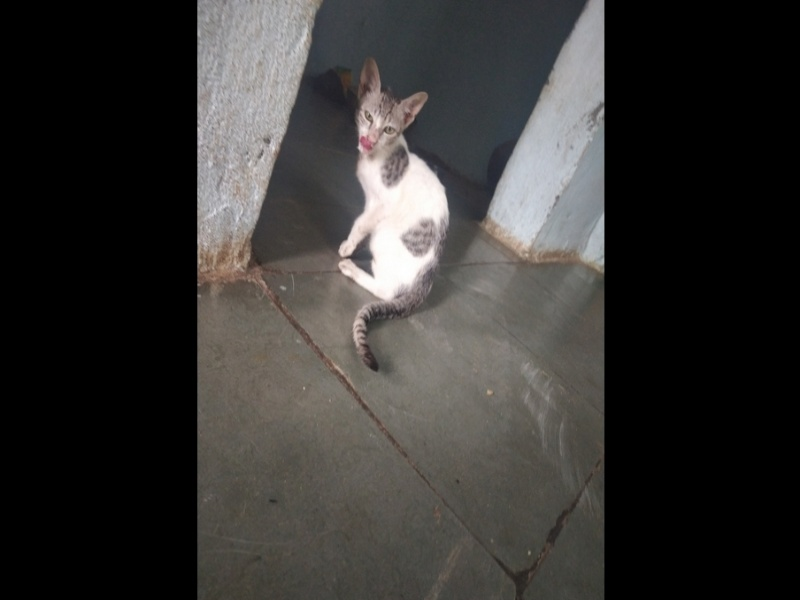cat: (336, 54, 454, 376)
